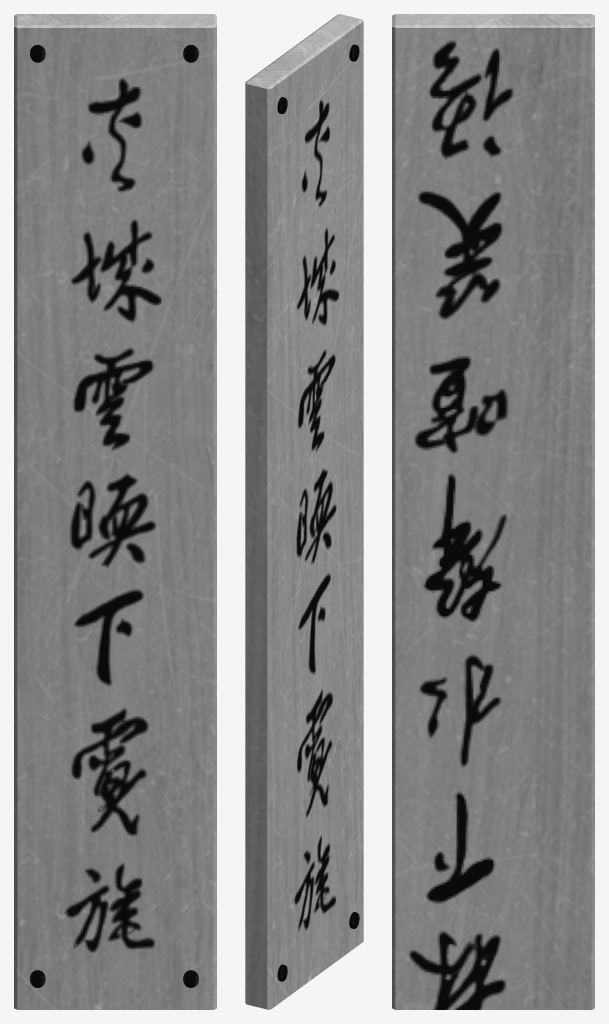
Rendered from SM_Stela08O.fbx.
The picture shows the model from 3 angles, left to right: view 1: azimuth 90°, elevation 25°; view 2: azimuth 150°, elevation 25°; view 3: azimuth 270°, elevation 25°; orthographic projection. The views are drawn at different scales.
Visible parts, largest first — view 1: SM_Stela08O; view 2: SM_Stela08O; view 3: SM_Stela08O.
Part boxes in pixels (left/top/right/bottom): SM_Stela08O: left=14, top=14, right=216, bottom=1009; SM_Stela08O: left=245, top=14, right=363, bottom=1009; SM_Stela08O: left=392, top=14, right=594, bottom=1009.
Bounding box in the file's own units: 3.25 × 18.02 × 96.59.
1 material, 1 textured.
